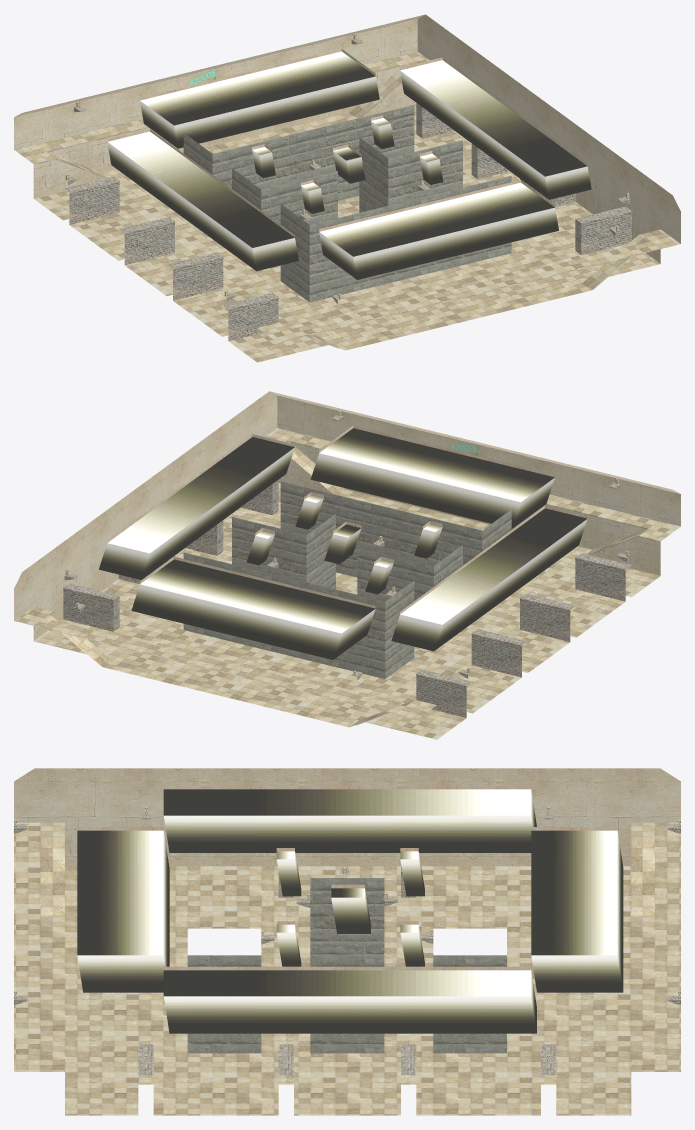
The picture shows the model from 3 angles, top to bottom: view 1: azimuth 30°, elevation 25°; view 2: azimuth 150°, elevation 25°; view 3: azimuth 270°, elevation 25°; orthographic projection. The views are drawn at different scales.
Visible parts, largest first — view 1: *0, *27, *31, *28, *32, *13, *5, *6, *3, *4; view 2: *0, *31, *27, *28, *32, *13, *6, *3, *5, *4; view 3: *0, *32, *28, *31, *27, *13, *6, *4, *5, *3.
Part boxes in pixels (x1,y1,x2,y2): *0: (14,14,680,362); *27: (319,182,558,279); *31: (140,51,379,148); *28: (107,131,298,271); *32: (400,60,591,199); *13: (333,147,365,183); *5: (419,153,443,184); *6: (301,182,324,213); *3: (371,118,394,149); *4: (252,147,275,178); *0: (14,391,680,739); *31: (131,559,375,659); *27: (310,428,554,528); *28: (391,508,587,651); *32: (99,437,294,579); *13: (324,524,361,564); *6: (414,524,442,558); *3: (246,530,274,565); *5: (295,495,323,529); *4: (365,559,393,594); *0: (14,768,680,1115); *32: (163,970,536,1033); *28: (163,789,536,852); *31: (531,830,623,992); *27: (77,830,169,992); *13: (331,888,370,934); *6: (276,851,301,896); *4: (400,851,424,896); *5: (276,924,301,966); *3: (400,924,424,966).
Size of the model in its own units: 46.08 by 8.76 by 52.11.
9 materials, 8 textured.
